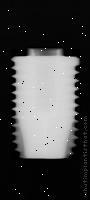Hiossen: (11, 49, 80, 160)
